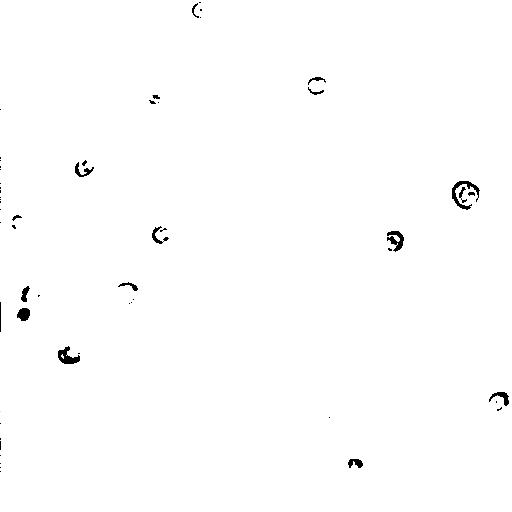micro-algae: (206, 199, 286, 278), (83, 259, 146, 321), (333, 1, 394, 54), (0, 293, 43, 337), (189, 355, 231, 397), (17, 276, 52, 309), (450, 179, 481, 213), (495, 375, 512, 417), (55, 343, 84, 367), (5, 213, 33, 237), (112, 281, 138, 306), (383, 230, 405, 253), (304, 75, 328, 95), (149, 223, 171, 243), (73, 157, 95, 177), (487, 391, 508, 410), (191, 1, 213, 19), (345, 454, 365, 473), (35, 1, 55, 7)
